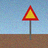sign: (22, 5, 39, 40)
